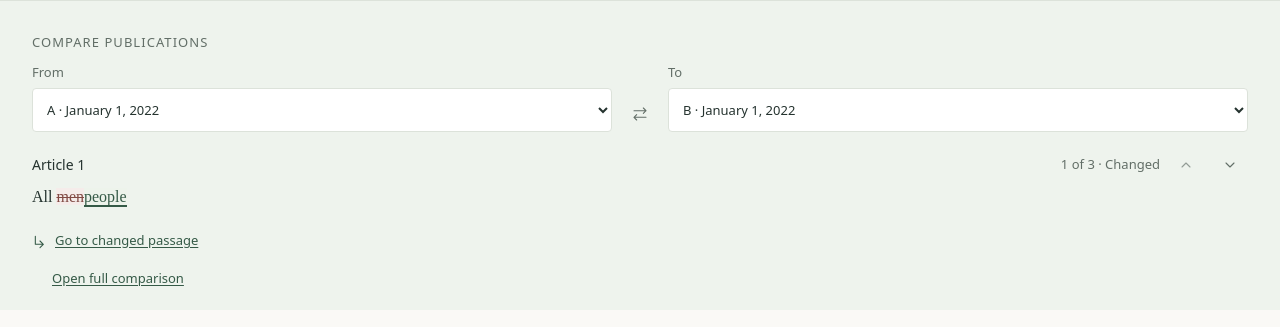
Test: compares exact snapshots, renders semantic insertions/deletions and navigates additions and removals
This screenshot has width=1280, height=327.
Expected: the text "people" is shown, [84, 188, 127, 207]
Expected: the text "men" is shown, [56, 188, 84, 205]
Click the button named "Next change": (1230, 165) [1212, 147, 1248, 183]
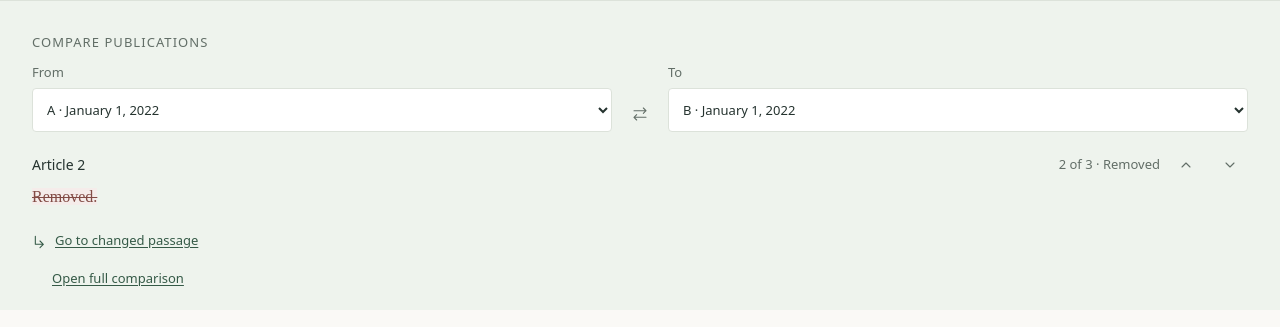
Click the button named "Next change": (1230, 165) [1212, 147, 1248, 183]
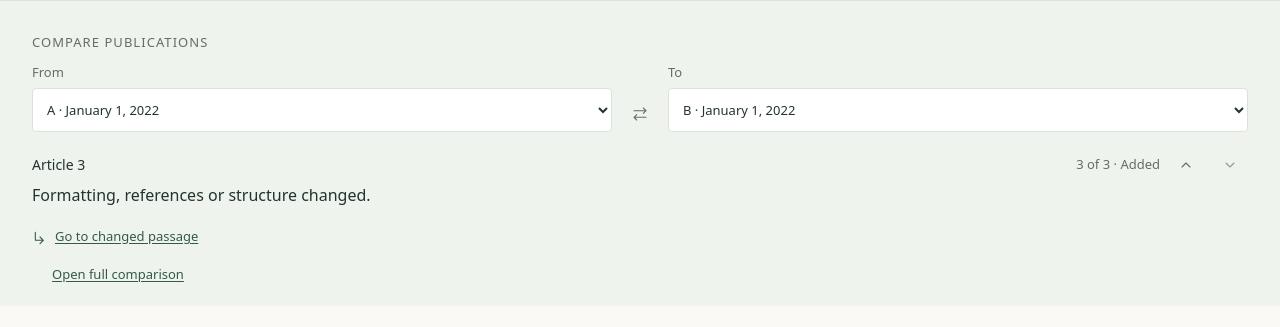
Now the text "Formatting, references or structure changed." is shown, box [32, 184, 371, 206]
Click the button named "Previous change": (1186, 165) [1168, 147, 1204, 183]
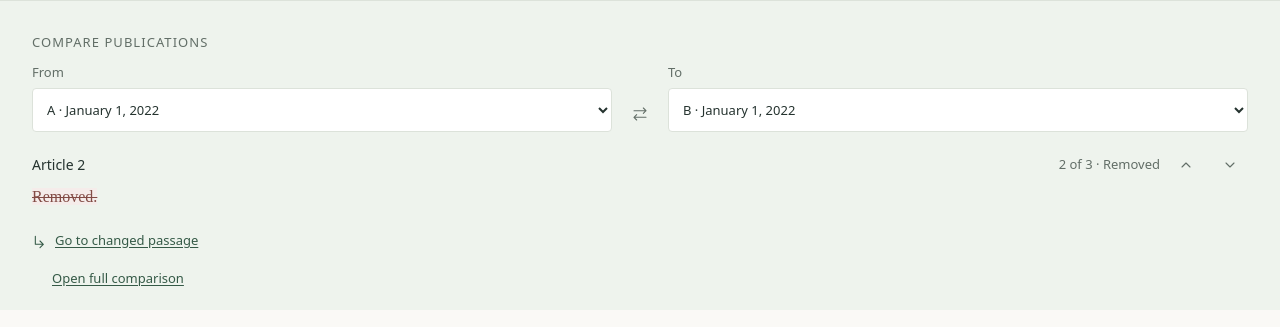
Now the text "Article 2" is shown, box [32, 154, 85, 175]
